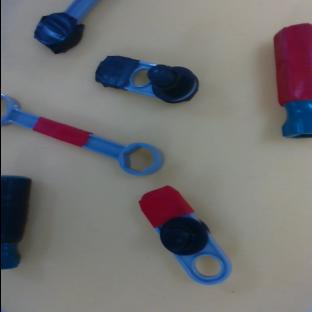part_1_bad: (92, 52, 201, 107)
part_1_good: (130, 176, 240, 297)
part_2_bad: (1, 176, 31, 269)
part_2_good: (273, 23, 312, 138)
part_3_good: (0, 94, 168, 183)
